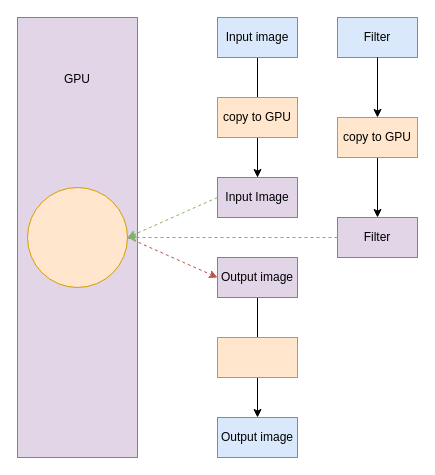
Image size: 435x475. Some labels were removed from this diagram. The centre of each missing label's shape, as x and y in pixels:
"copy back to host" belongs at pixel 257 357.
"Image convolution kernel" belongs at pixel 77 237.
